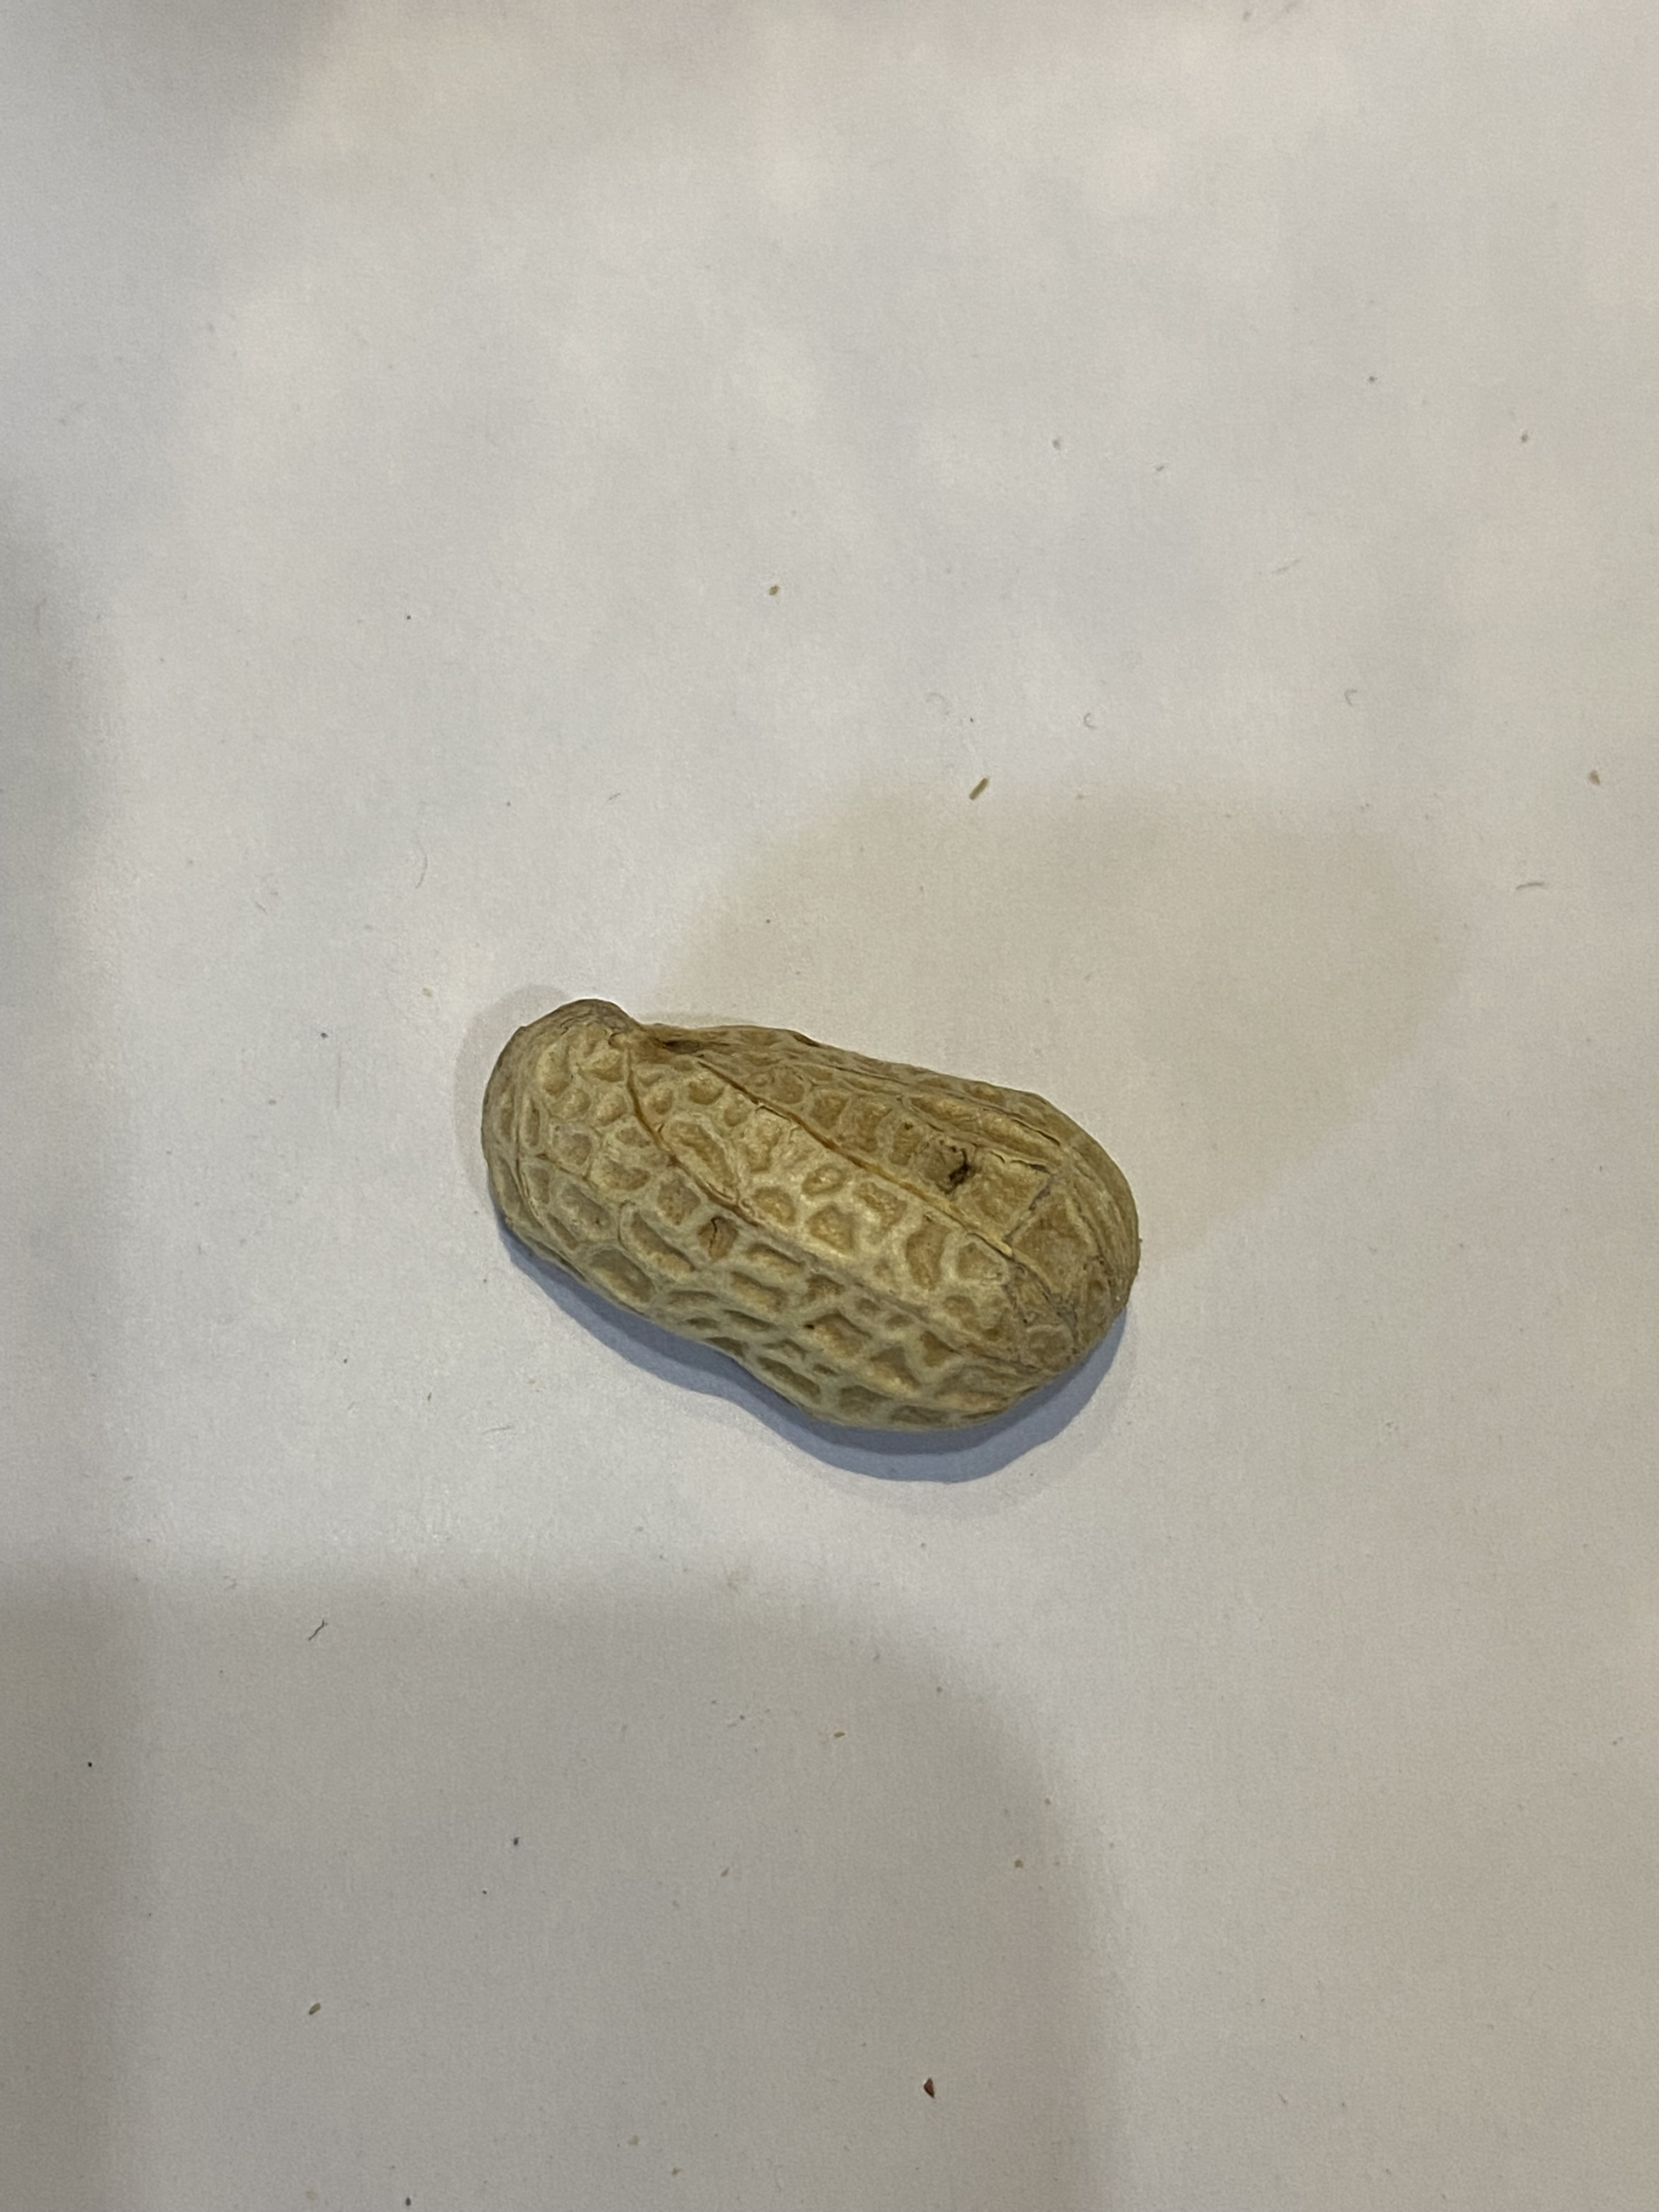kacang1: (453, 975, 1168, 1477)
